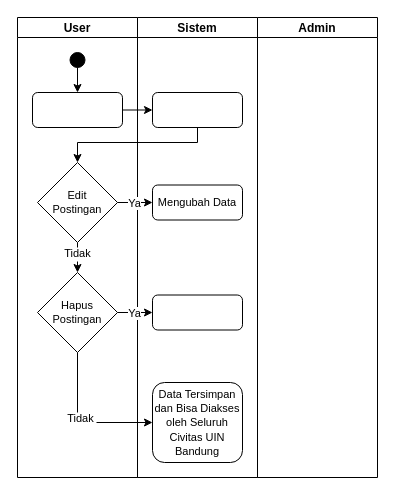
Image size: 395x495. Some labels were removed from this diagram. The shapes that lost their labels are listed below. From the top down, each one's centre as x and y in pixels, then its label:
the point at 77,110: Input Postingan
the point at 197,110: Menyimpan Data
the point at 197,312: Menghapus Data
